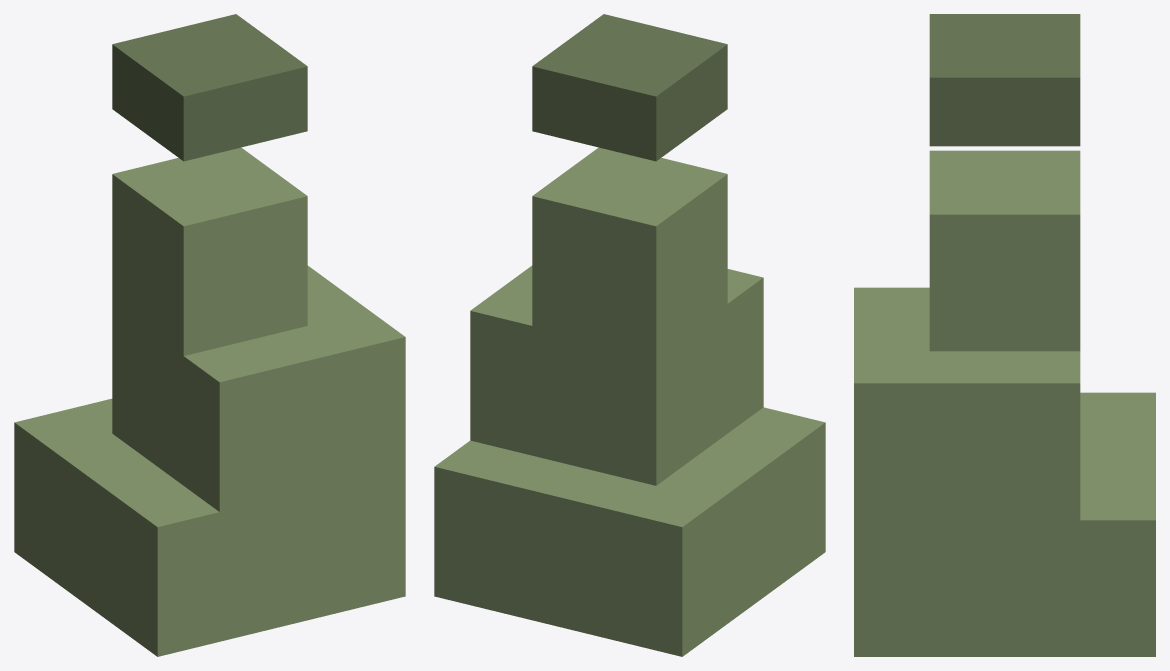
The model's file is hierbas_secas_01.glb.
The picture shows the model from 3 angles, left to right: view 1: azimuth 30°, elevation 25°; view 2: azimuth 150°, elevation 25°; view 3: azimuth 270°, elevation 25°; orthographic projection. The views are drawn at different scales.
Parts seen in each view (by area): view 1: hierbas_secas; view 2: hierbas_secas; view 3: hierbas_secas.
Boxes of the visible parts, <box> form: hierbas_secas: <box>14,14,405,656</box>; hierbas_secas: <box>434,14,825,656</box>; hierbas_secas: <box>854,14,1155,656</box>.
Size of the model in its own units: 0.3333 by 0.6667 by 0.3333.
